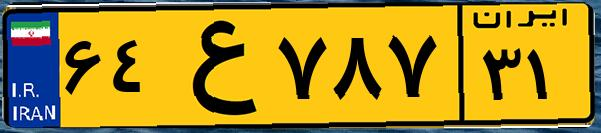1: (525, 38, 570, 115)
3: (475, 38, 525, 113)
4: (110, 28, 158, 98)
6: (57, 26, 110, 100)
7: (270, 28, 330, 110), (385, 28, 445, 110)
8: (330, 28, 385, 110)
ع: (158, 12, 270, 120)
